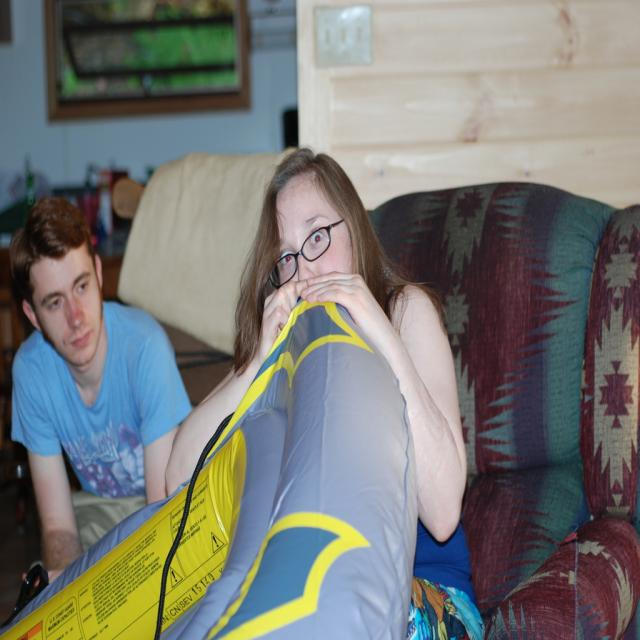Glasses: (262, 232, 342, 278)
